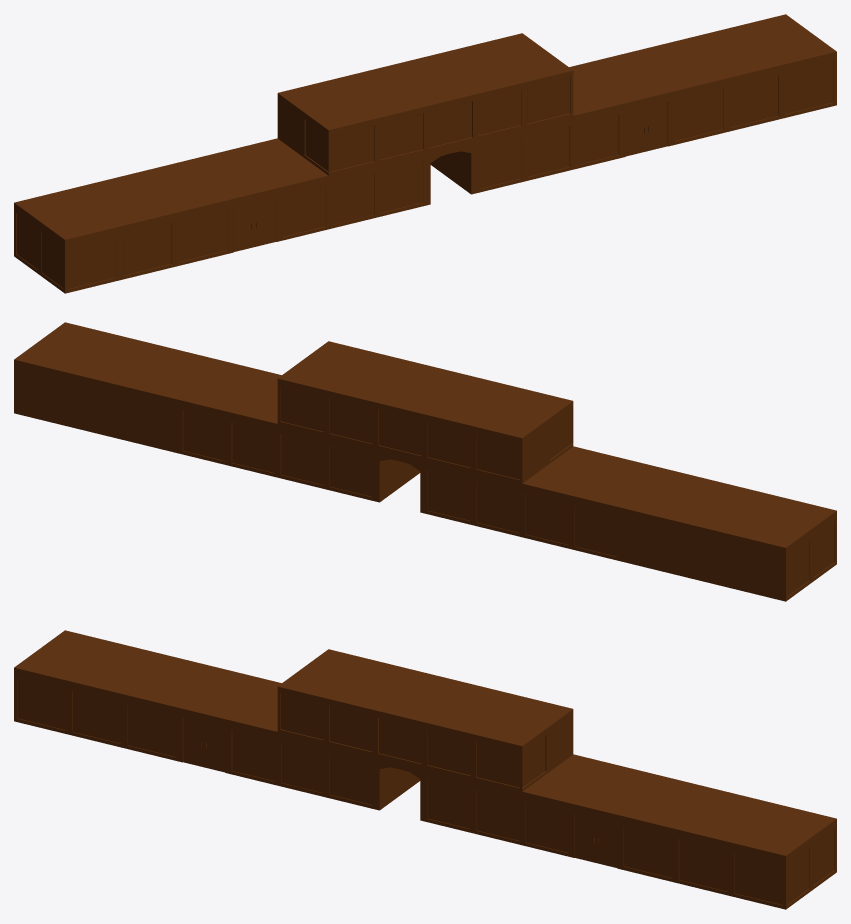
The model's file is shop (1).fbx.
3 renders of one model, top to bottom at view 1: azimuth 30°, elevation 25°; view 2: azimuth 150°, elevation 25°; view 3: azimuth 330°, elevation 25°, orthographic.
Parts seen in each view (by area): view 1: Khrushchyovka.005, Khrushchyovka.001; view 2: Khrushchyovka.005, Khrushchyovka.001; view 3: Khrushchyovka.005, Khrushchyovka.001.
Part boxes in pixels (x1=…): Khrushchyovka.005: x1=14, y1=14, x2=836, y2=293; Khrushchyovka.001: x1=16, y1=62, x2=833, y2=288; Khrushchyovka.005: x1=14, y1=322, x2=836, y2=601; Khrushchyovka.001: x1=183, y1=386, x2=834, y2=595; Khrushchyovka.005: x1=14, y1=630, x2=836, y2=909; Khrushchyovka.001: x1=17, y1=678, x2=834, y2=904.
Bounding box in the file's own units: 5596 × 687 × 642.
